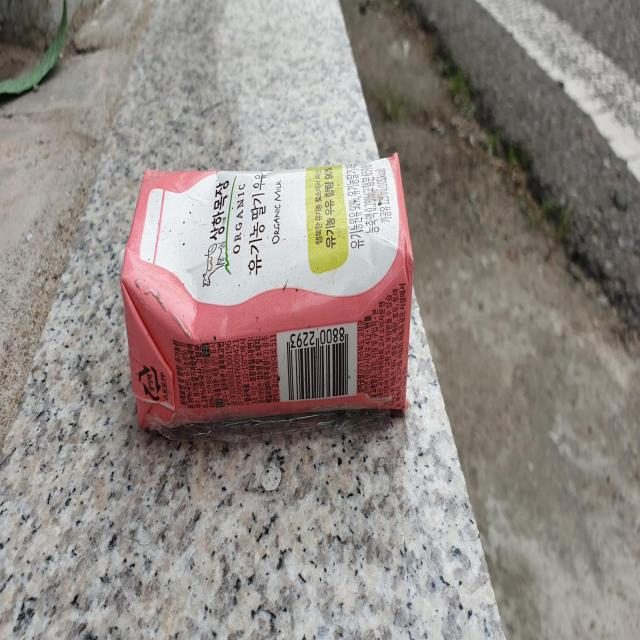paperpack: (120, 152, 414, 431)
